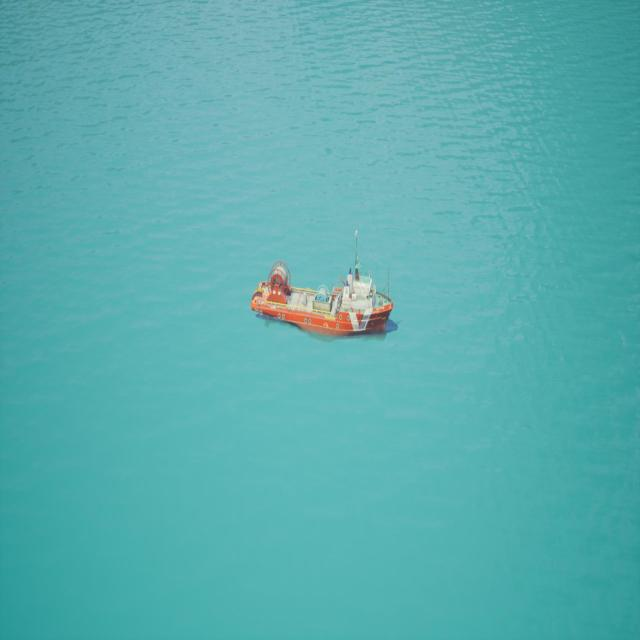tug boat: (250, 226, 403, 377)
